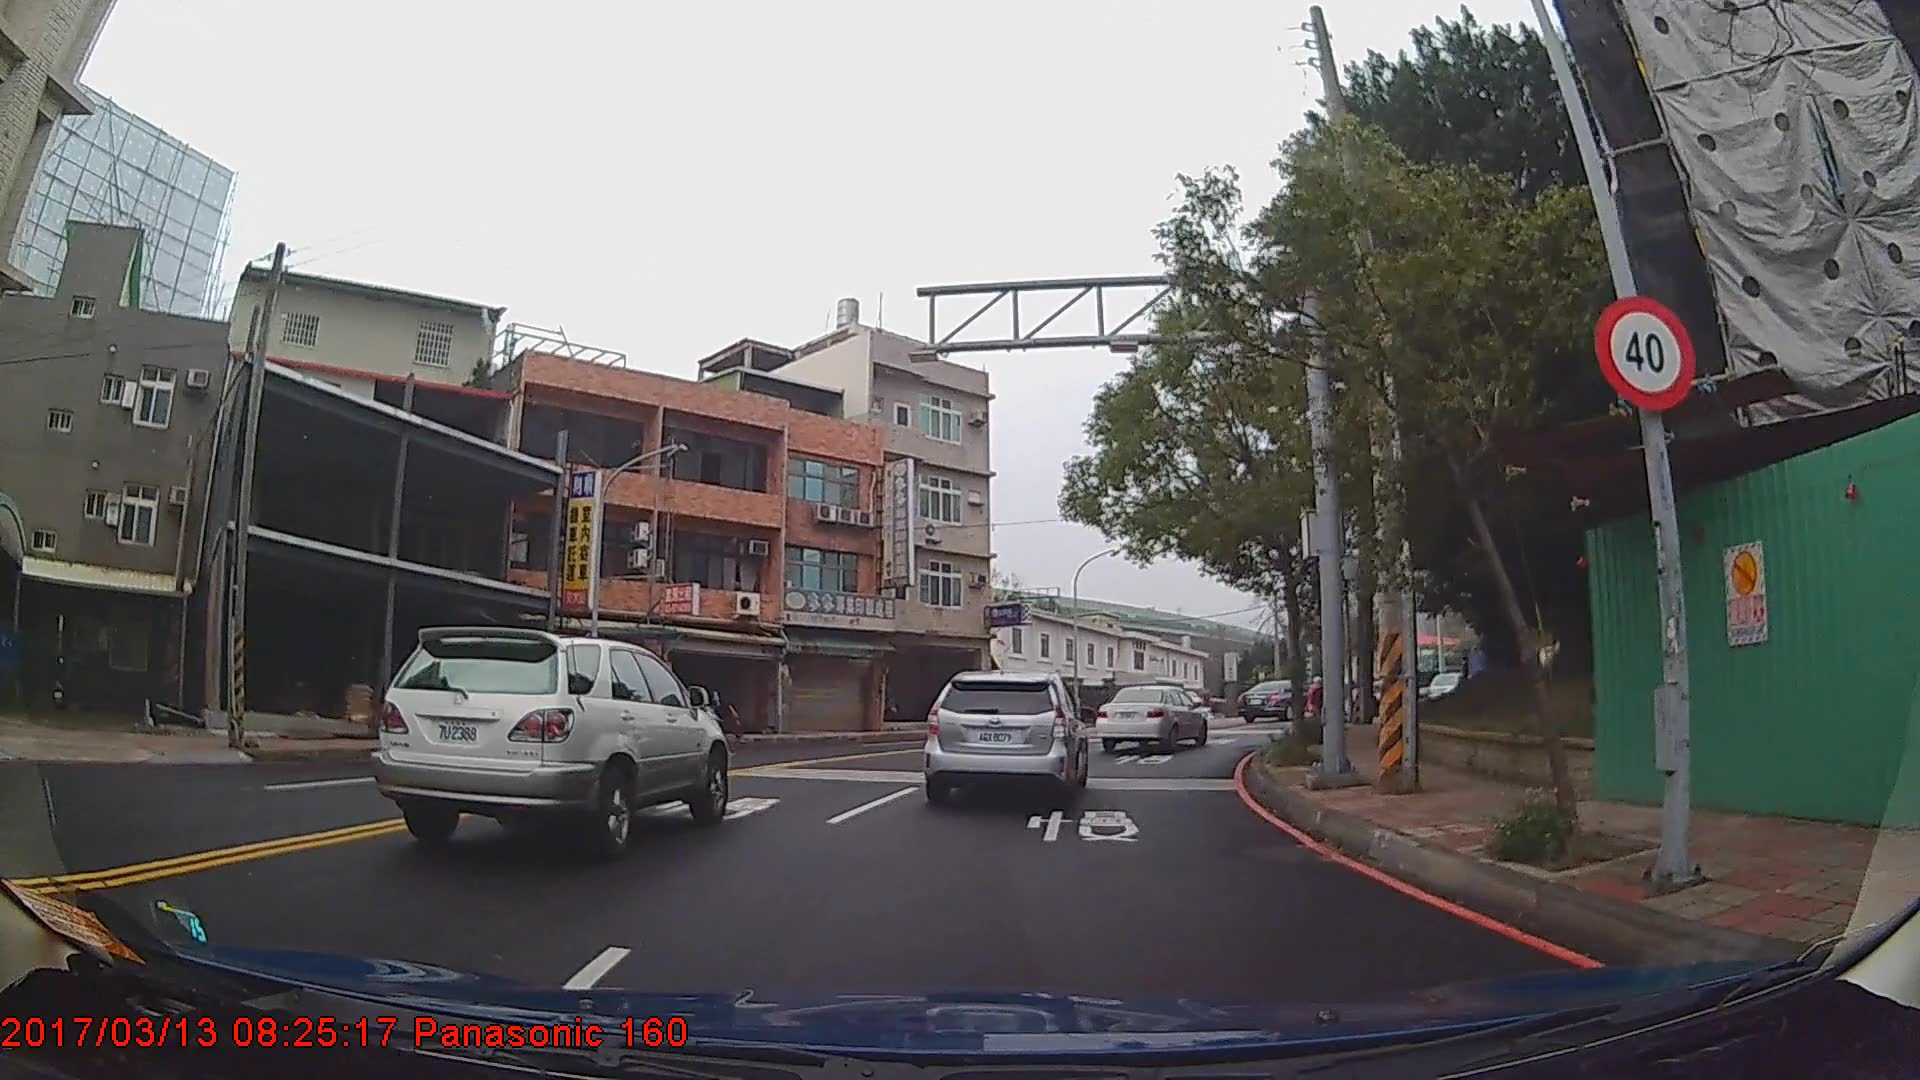vehicle: (368, 625, 731, 858), (922, 669, 1088, 804), (1095, 684, 1211, 752), (1236, 678, 1311, 723)
